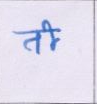i_matra: (43, 21, 58, 50)
